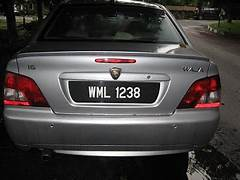number_plate: (68, 81, 157, 103)
